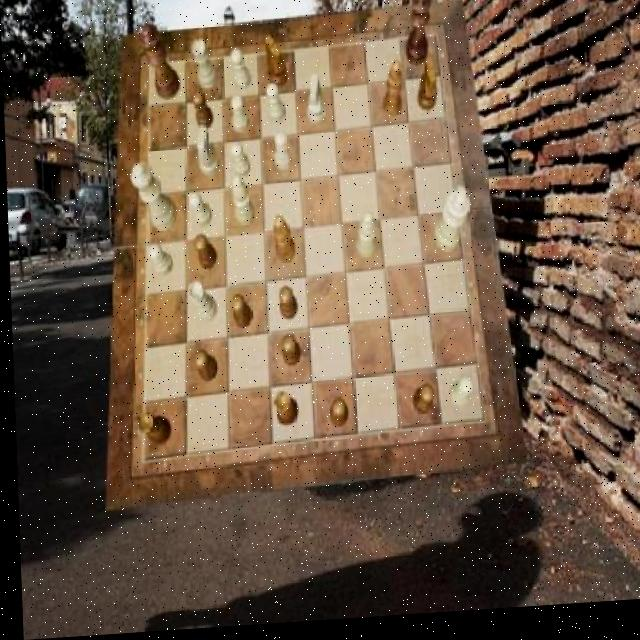bishop: (381, 65, 403, 122), (271, 219, 294, 267)
black-bishop: (405, 0, 434, 72)
black-king: (263, 39, 287, 93), (416, 62, 438, 117)
black-knight: (190, 92, 212, 133), (192, 237, 215, 273), (192, 351, 216, 384), (229, 297, 250, 332), (409, 390, 432, 419), (280, 339, 300, 372), (277, 290, 295, 324), (326, 403, 346, 433)
black-pawn: (139, 24, 181, 105)
black-queen: (134, 412, 169, 448), (270, 394, 295, 430)
black-rook: (230, 178, 254, 231), (353, 216, 375, 263)
white-bishop: (430, 193, 469, 259)
white-king: (195, 127, 219, 180), (306, 77, 326, 130)
white-knight: (229, 52, 251, 94), (146, 245, 171, 281), (187, 194, 211, 231), (446, 382, 471, 416), (266, 87, 285, 128), (272, 134, 290, 175), (229, 144, 250, 179), (231, 98, 250, 136)
white-pawn: (130, 162, 176, 233)
white-queen: (192, 41, 218, 93), (186, 283, 215, 326)
